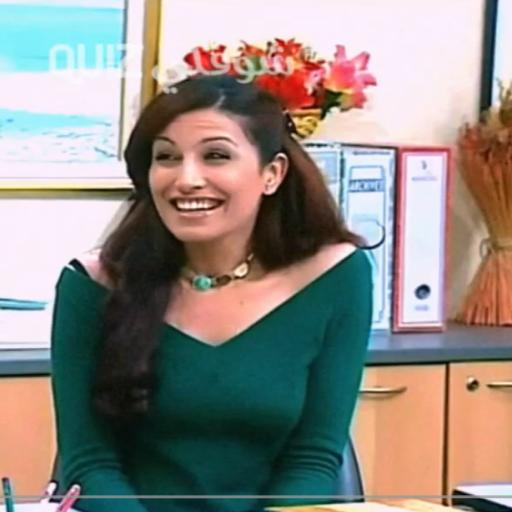Dalanda: (149, 110, 288, 259)
